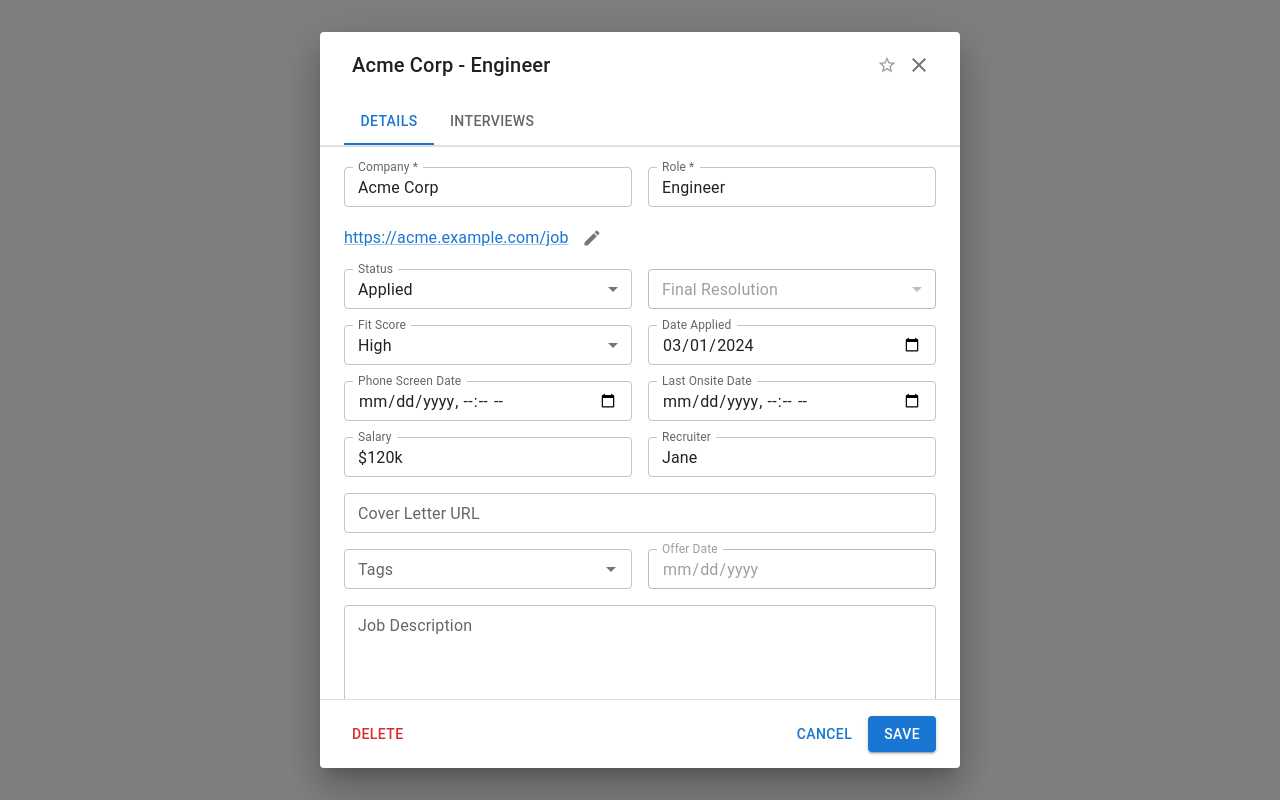
jobDialog › edit mode (with jobId) › opens a confirmation dialog when Delete is clicked after loading
Check: the field labelled "Company *" holds "Acme Corp", box top-left (344, 167), bottom-right (632, 207)
Click the button "Delete".
click(378, 734)  # box top-left (344, 716), bottom-right (412, 752)
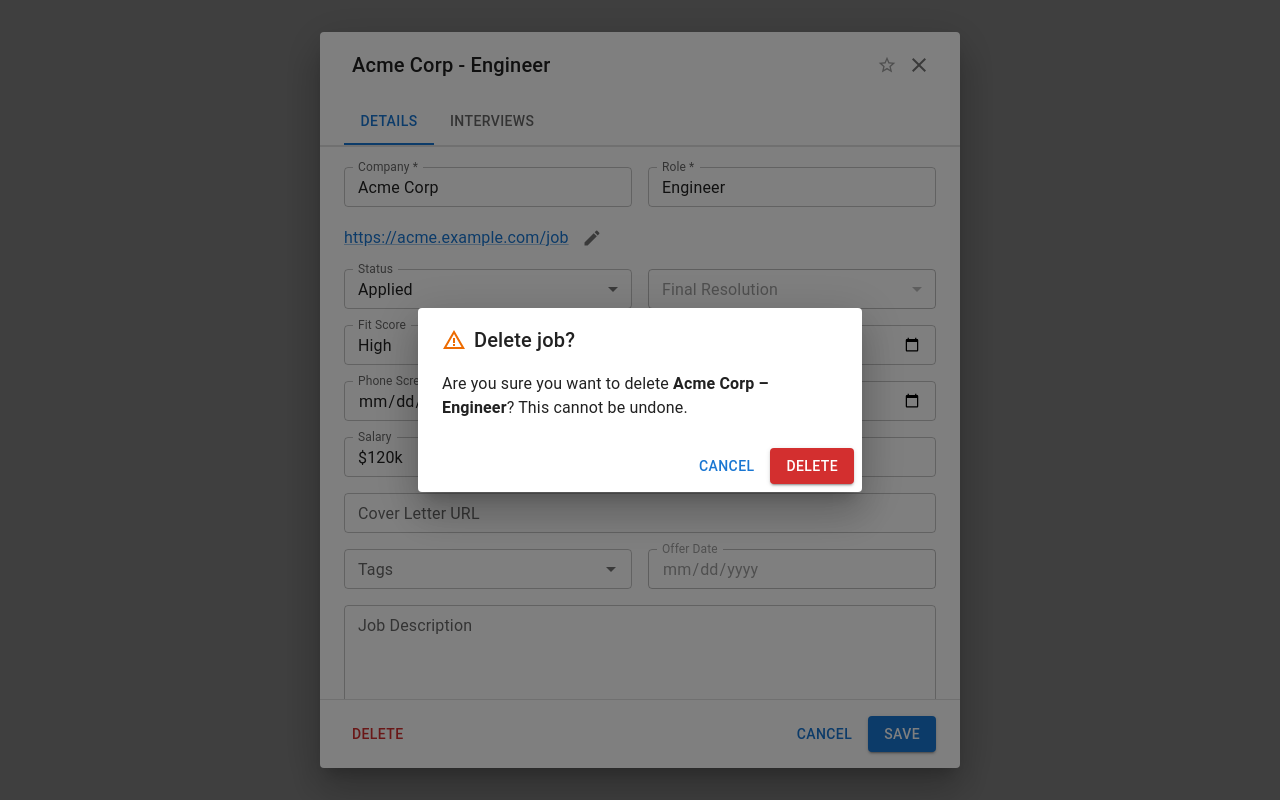
Check: the heading "Delete job?" is shown, box top-left (442, 328), bottom-right (575, 352)
Check: the text "Are you sure" is shown, box top-left (442, 374), bottom-right (669, 393)
